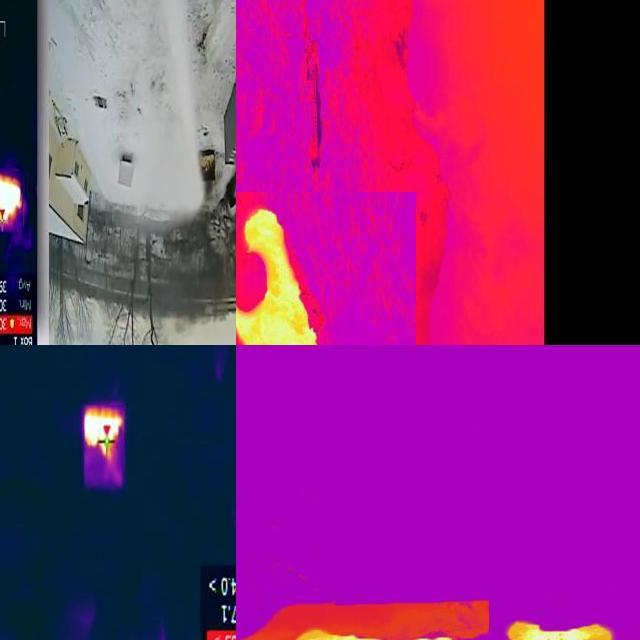fire: (237, 205, 319, 345), (84, 405, 124, 487), (505, 620, 618, 640), (278, 624, 378, 640), (1, 171, 23, 233)
